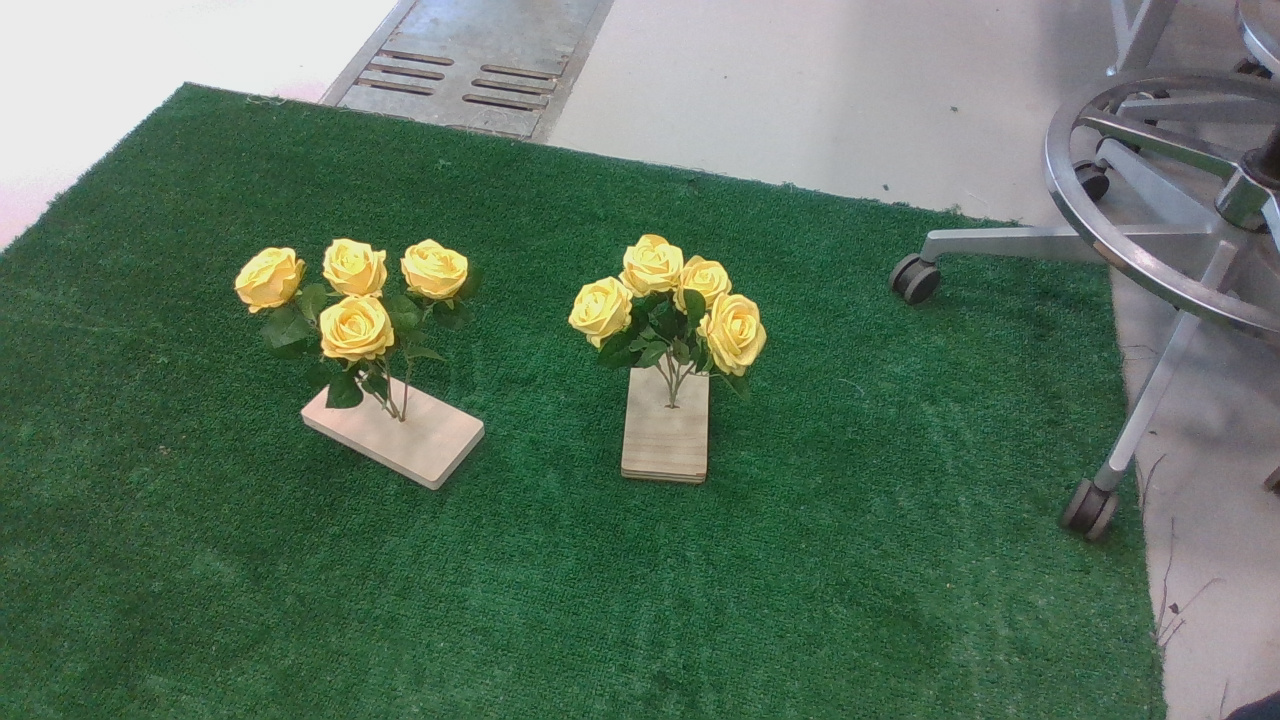rose: (222, 240, 489, 425), (568, 233, 777, 419)
